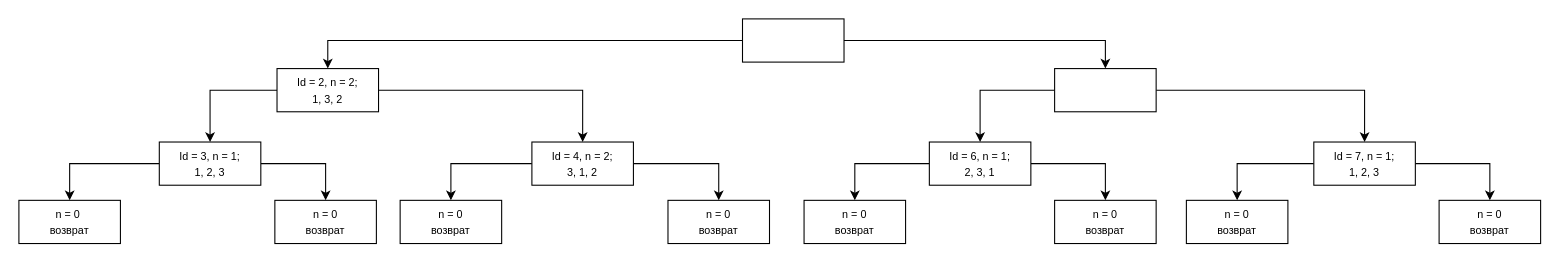
Some shapes in this 1560 by 262 pixel diagram are drawn without their labels. The shapes that lost their labels are listed below. From the top down, each one's centre as x and y in pixels, then its label:
At point (792, 40): "Id = 1, n = 3; 1, 2, 3".
At point (1105, 90): "Id = 5, n = 2; 2, 1, 3".
